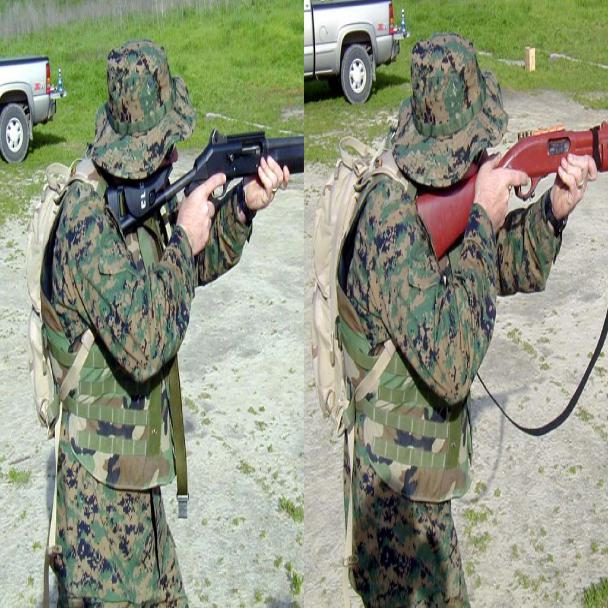Gun: (421, 115, 607, 248), (129, 119, 316, 239)
